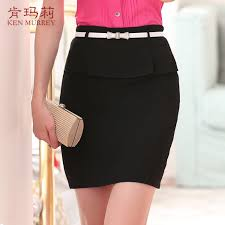F_tailored skirt: (54, 22, 184, 192)
